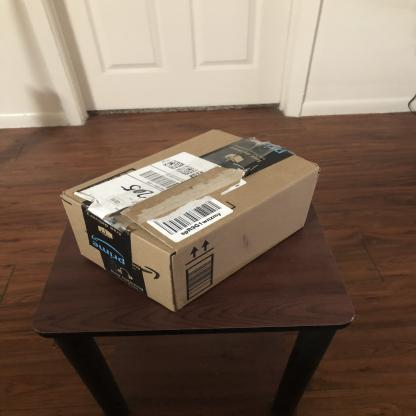package: (58, 126, 325, 316)
